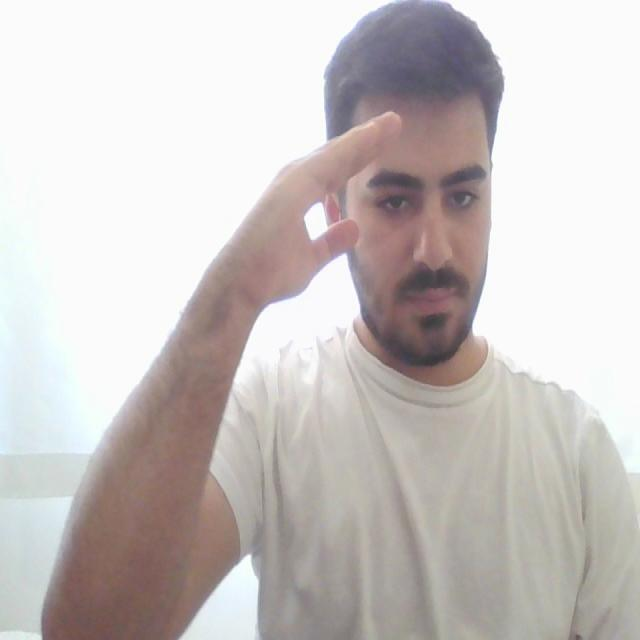Merhaba: (219, 70, 419, 338)
